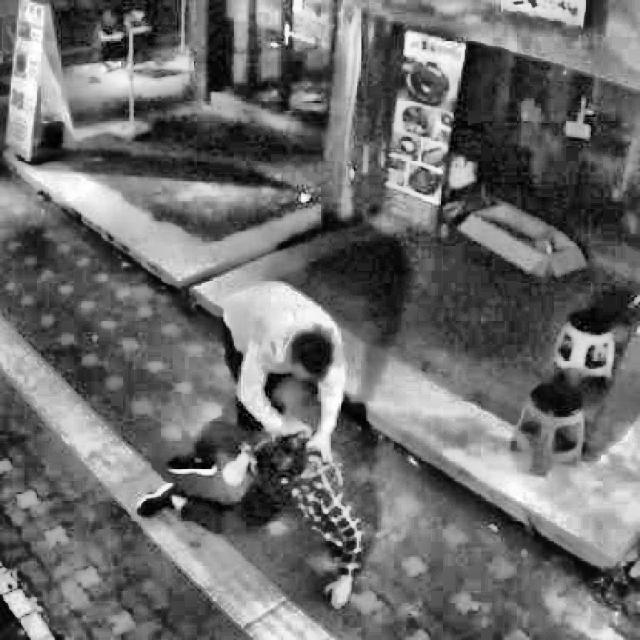robbery: (133, 272, 372, 615)
